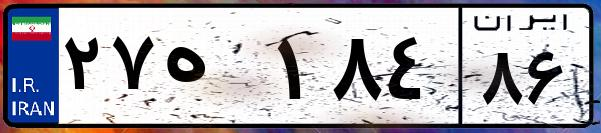1: (270, 28, 330, 110)
2: (57, 26, 110, 100)
4: (385, 28, 445, 110)
6: (525, 38, 570, 115)
7: (110, 28, 158, 98)
8: (330, 28, 385, 110), (475, 38, 525, 113)
ه: (158, 20, 270, 120)
